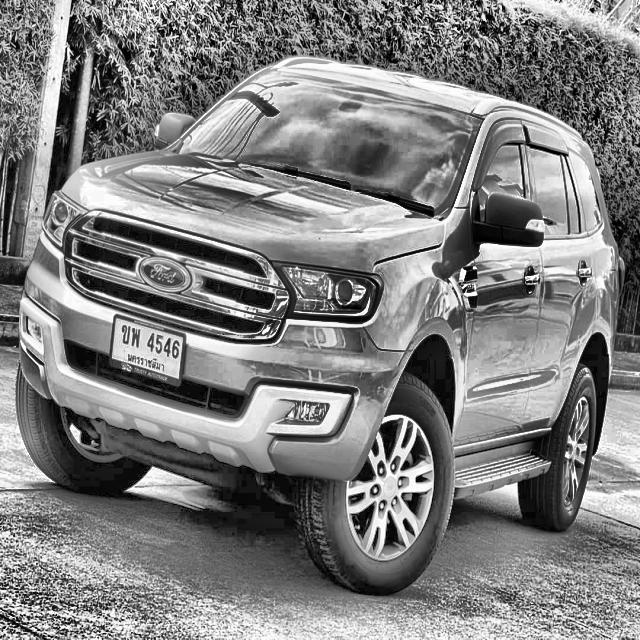license-plate: (108, 312, 188, 393)
